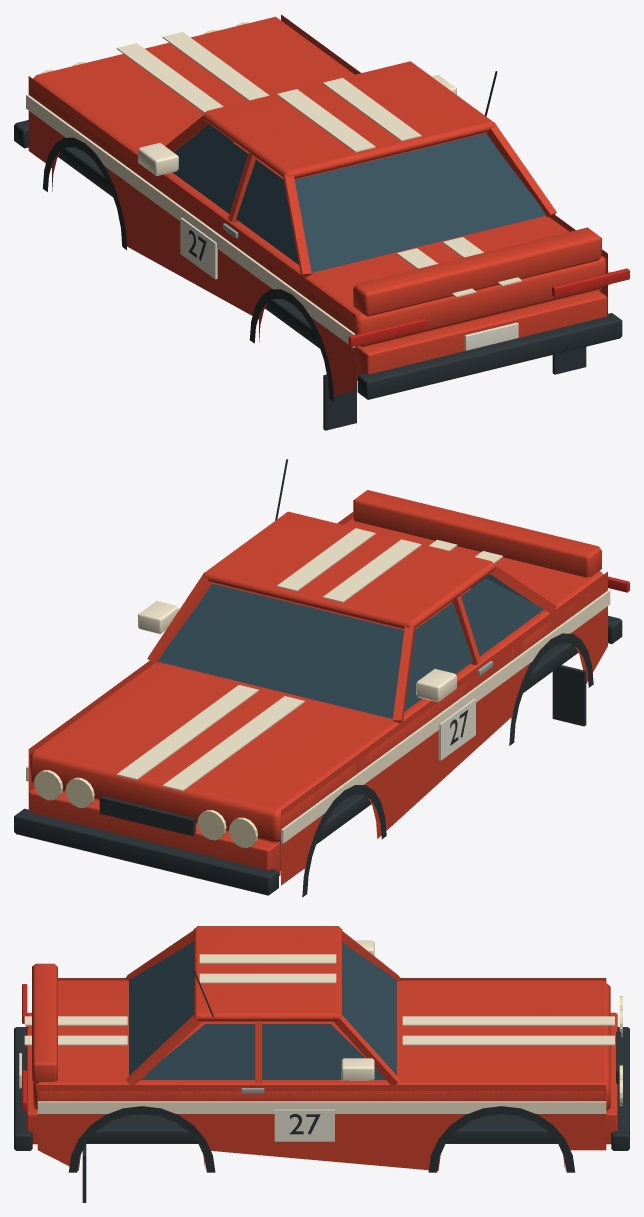
3 renders of one model, top to bottom at view 1: azimuth 30°, elevation 25°; view 2: azimuth 150°, elevation 25°; view 3: azimuth 270°, elevation 25°, orthographic. The views are drawn at different scales.
Visible parts, largest first — view 1: Upper body, Rear glass, Roof, Ducktail, Wheel opening body.014, Side glass, Rear bumper, Rear valance, Waist stripe, Sill floor, Hood racing stripe, Hood racing stripe.001 (+16 smaller); view 2: Upper body, Windscreen, Roof, Ducktail, Wheel opening body.014, Side glass, Front bumper, Front valance, Waist stripe, Hood racing stripe, Hood racing stripe.001, Sill floor (+17 smaller); view 3: Upper body, Roof, Wheel opening body.043, Side glass.001, Waist stripe.001, Rear glass, Sill floor, Windscreen, Ducktail, Hood racing stripe.001, Wheel opening body.057, Hood racing stripe (+16 smaller).
Part boxes in pixels (box(x1,y1,x2,y2)): Upper body: box(29, 16, 606, 348); Rear glass: box(294, 133, 546, 272); Roof: box(203, 61, 494, 179); Ducktail: box(353, 227, 601, 316); Wheel opening body.014: box(125, 146, 259, 319); Side glass: box(172, 128, 298, 264); Rear bumper: box(357, 313, 622, 399); Rear valance: box(356, 290, 607, 380); Waist stripe: box(26, 94, 355, 347); Sill floor: box(58, 147, 356, 374); Hood racing stripe: box(116, 43, 223, 112); Hood racing stripe.001: box(162, 32, 269, 100); Upper body: box(29, 518, 605, 844); Windscreen: box(158, 583, 404, 718); Roof: box(203, 511, 495, 629); Ducktail: box(353, 490, 601, 577); Wheel opening body.014: box(377, 642, 512, 838); Side glass: box(404, 578, 543, 711); Front bumper: box(14, 808, 278, 895); Front valance: box(29, 788, 280, 875); Waist stripe: box(281, 590, 610, 843); Hood racing stripe: box(162, 696, 304, 791); Hood racing stripe.001: box(116, 685, 258, 780); Sill floor: box(279, 643, 578, 870); Upper body: box(33, 980, 610, 1110); Roof: box(194, 926, 341, 1022); Wheel opening body.043: box(204, 1085, 438, 1170); Side glass.001: box(141, 1024, 385, 1079); Waist stripe.001: box(37, 1101, 606, 1113); Rear glass: box(129, 941, 193, 1075); Sill floor: box(86, 1114, 557, 1143); Windscreen: box(342, 942, 396, 1074); Ducktail: box(32, 963, 57, 1083); Hood racing stripe.001: box(402, 1035, 614, 1045); Wheel opening body.057: box(37, 1085, 78, 1170); Hood racing stripe: box(402, 1016, 614, 1025).
Size of the model in its own units: 2.11 by 1.7 by 4.28.
